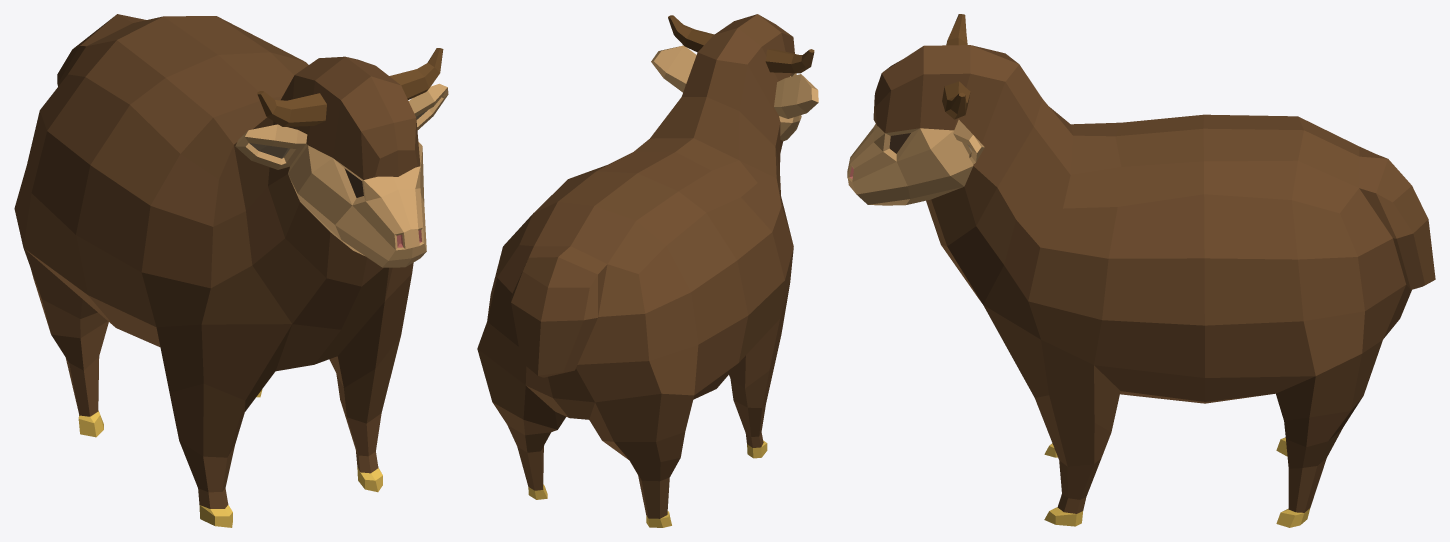
File: sheep_a.gltf
3 renders of one model, left to right at view 1: azimuth 30°, elevation 25°; view 2: azimuth 150°, elevation 25°; view 3: azimuth 270°, elevation 25°, orthographic. The views are drawn at different scales.
Parts seen in each view (by area): view 1: sheep_a001; view 2: sheep_a001; view 3: sheep_a001.
Boxes of the visible parts, x1,y1,x2,y2 form: sheep_a001: [14, 14, 448, 527]; sheep_a001: [477, 14, 818, 527]; sheep_a001: [847, 14, 1435, 527].
Size of the model in its own units: 0.6926 by 1.13 by 1.36.
1 material, 1 textured.
